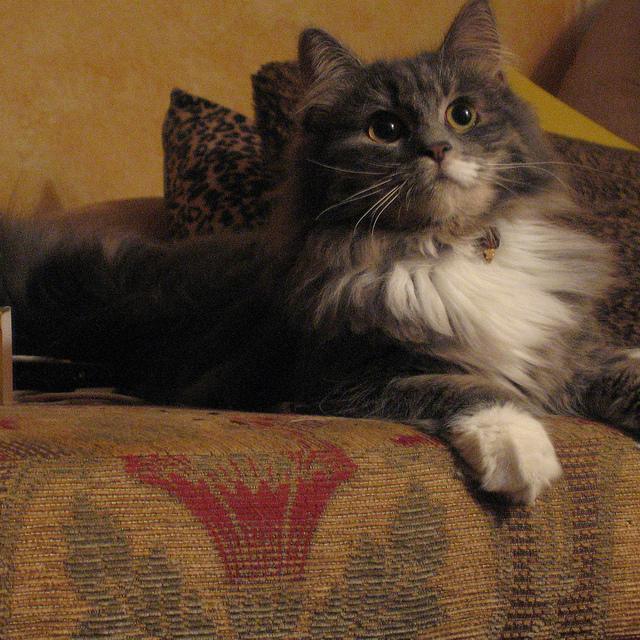animals: (307, 0, 503, 160)
